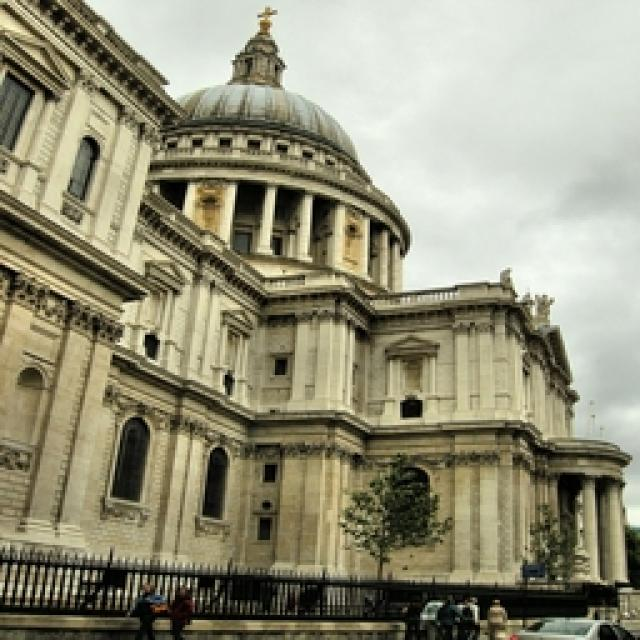Abbey: (149, 38, 442, 479)
